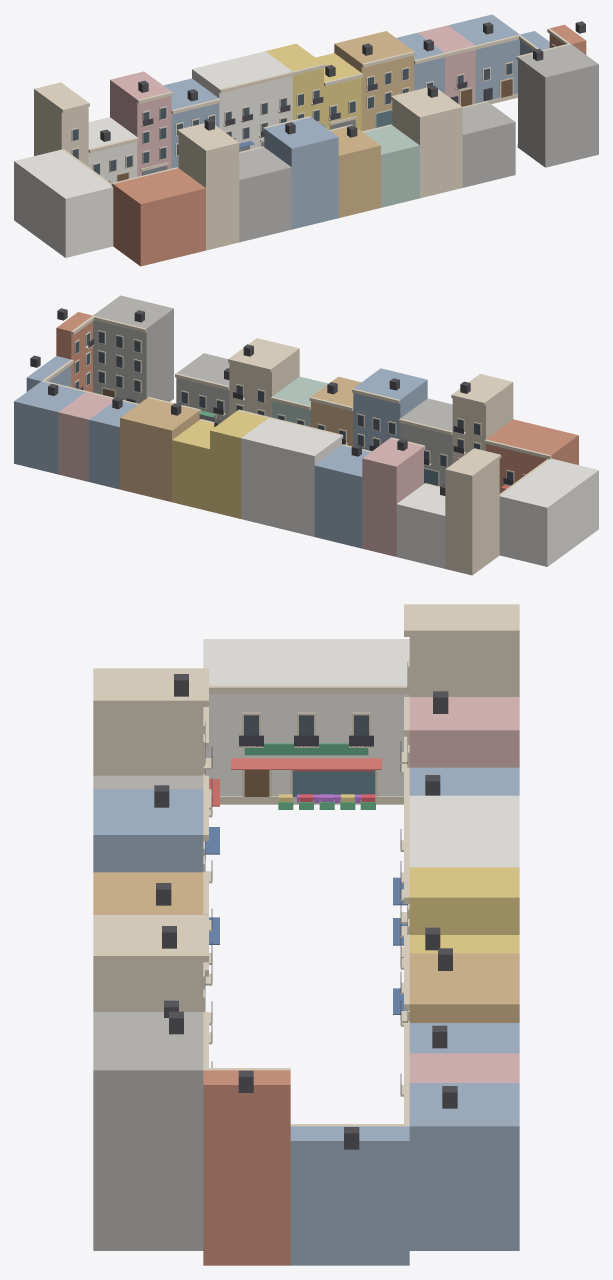
File: SM_Manzanas_Hospital_Floreria.fbx
3 views of the same model, one above another, from view 1: azimuth 30°, elevation 25°; view 2: azimuth 150°, elevation 25°; view 3: azimuth 270°, elevation 25° (orthographic). The views are drawn at different scales.
Visible parts, largest first — view 1: SM_Manzanas_Hospital_Floreria; view 2: SM_Manzanas_Hospital_Floreria; view 3: SM_Manzanas_Hospital_Floreria.
Boxes of the visible parts, box(x1,y1,x2,y2) form: SM_Manzanas_Hospital_Floreria: box(14, 14, 598, 266); SM_Manzanas_Hospital_Floreria: box(14, 295, 598, 575); SM_Manzanas_Hospital_Floreria: box(93, 604, 519, 1265).
Size of the model in its own units: 88.97 by 17.3 by 31.
